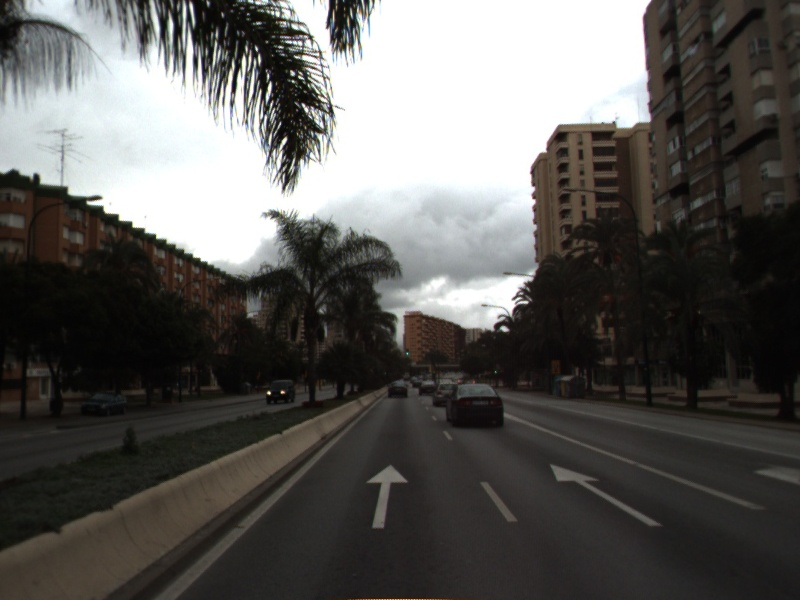STRAIGHT: (548, 462, 665, 529), (363, 462, 411, 530)
